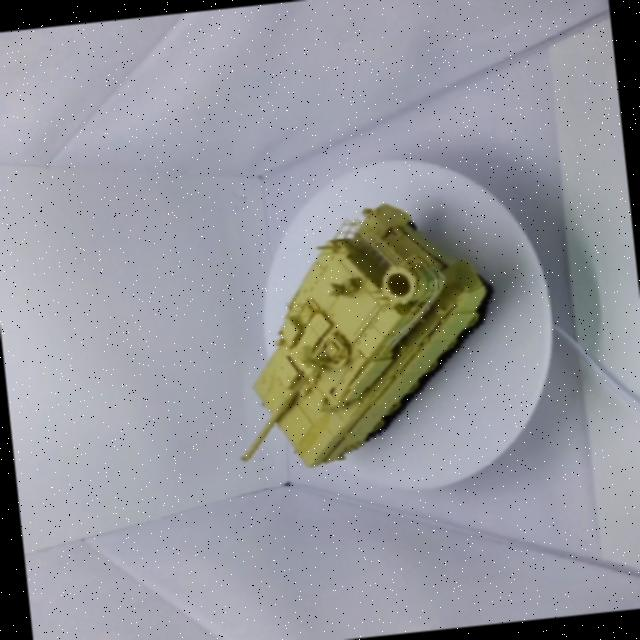korea tank: (188, 182, 522, 508)
